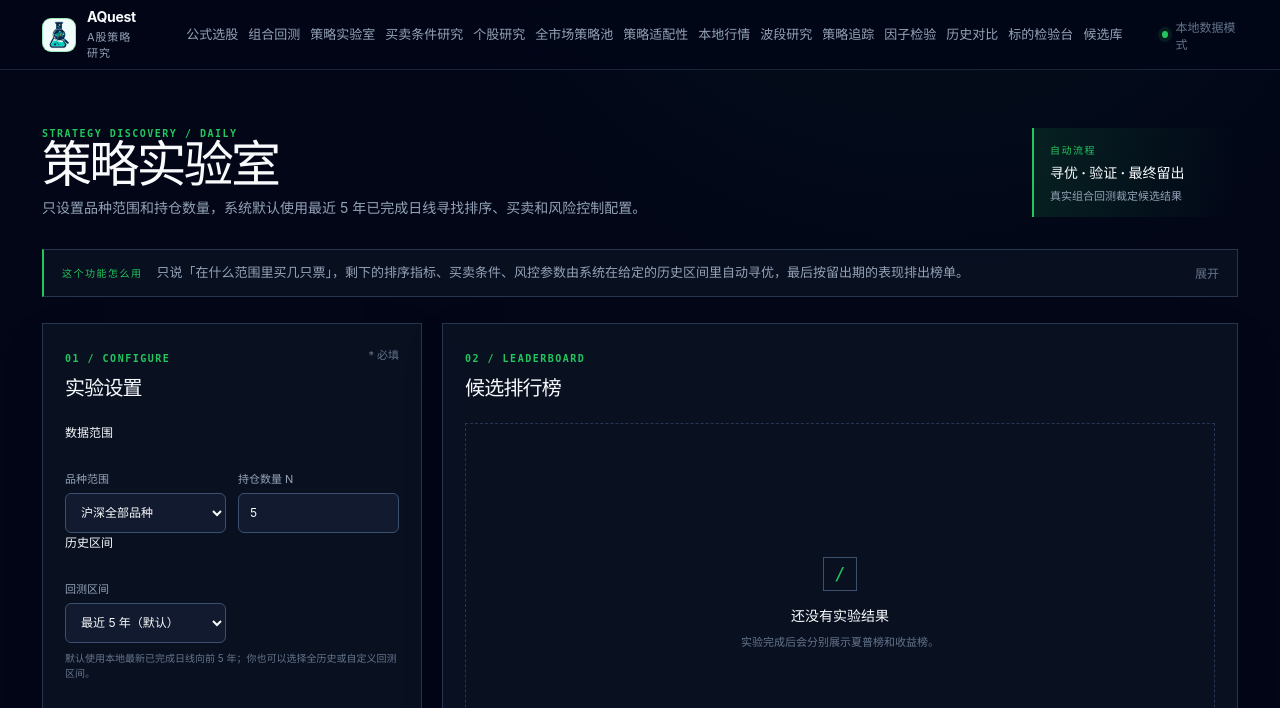
StrategyDiscoveryPage › submits only the user-facing universe and holding count
The image size is (1280, 708).
Replace the text in the number field with test id "strategy-discovery-positions" with "3": (318, 512) [238, 492, 399, 532]
(page scrolled)
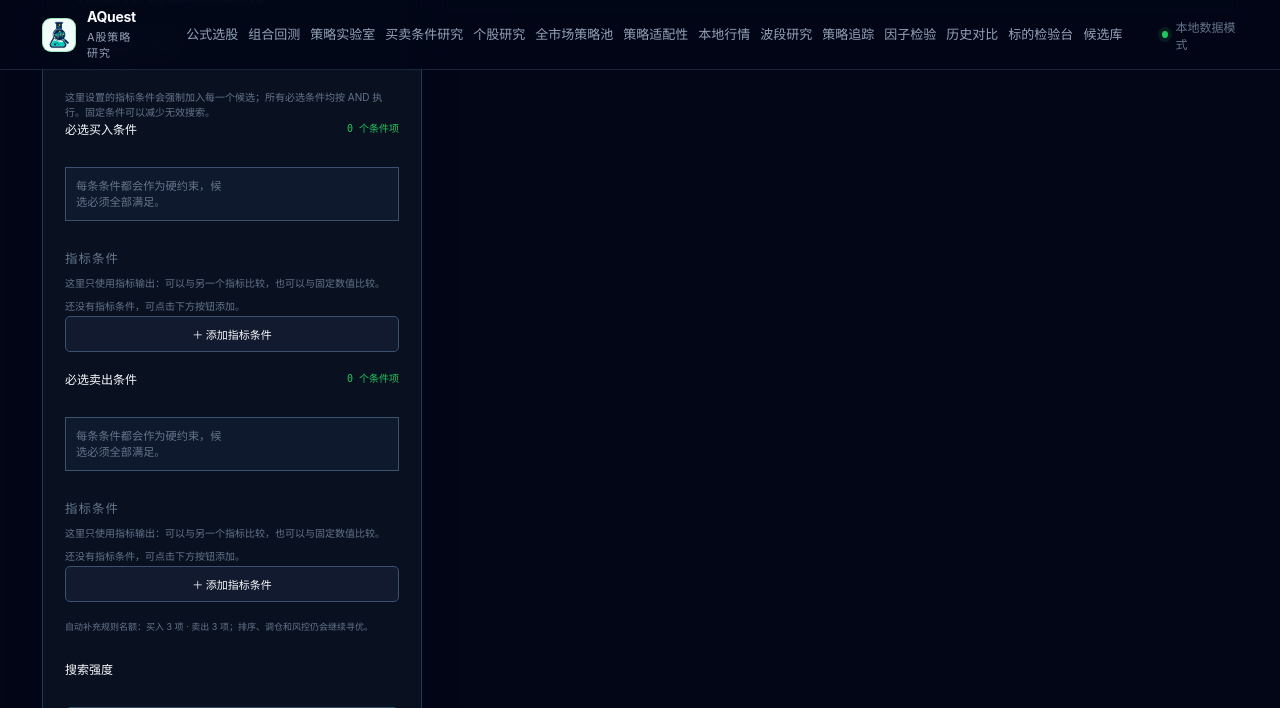
Submit the form with test id "strategy-discovery-config"
(page scrolled)
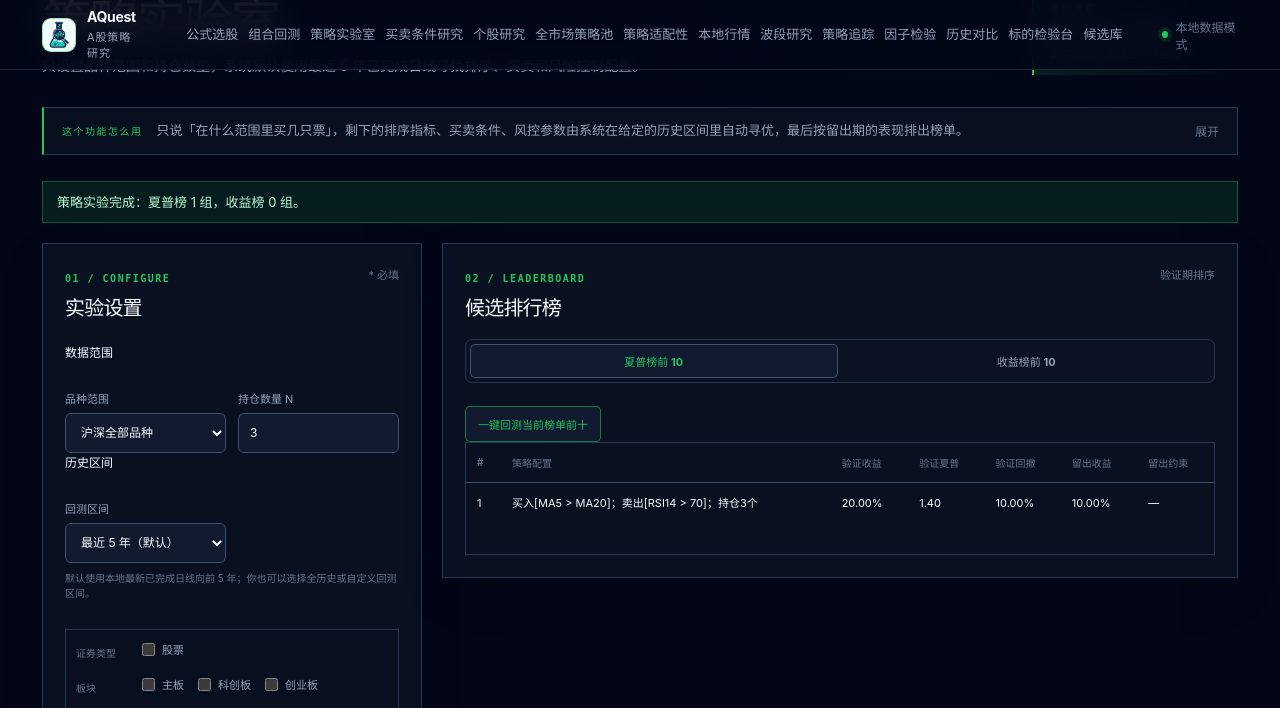
Check: the element with test id "strategy-discovery-results" shows "MA5 > MA20", box [512, 496, 758, 511]
Check: the tab with test id "strategy-discovery-sharpe-board" shows "夏普榜", box [470, 344, 838, 378]
